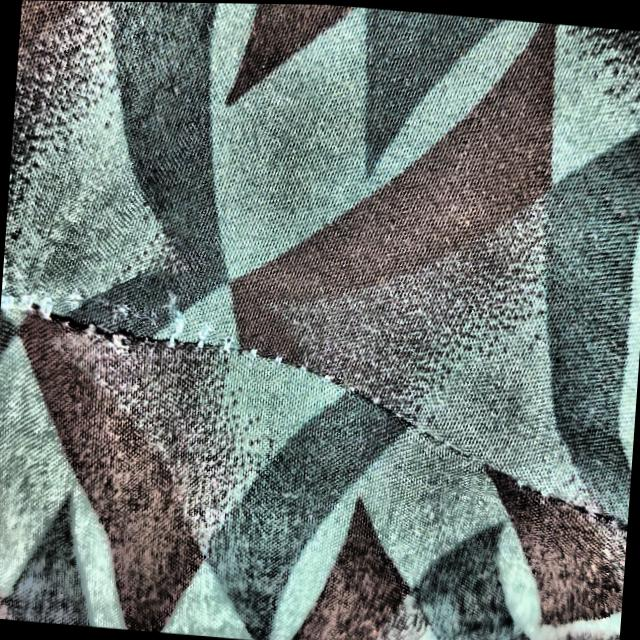Stitch: (13, 269, 306, 400)
